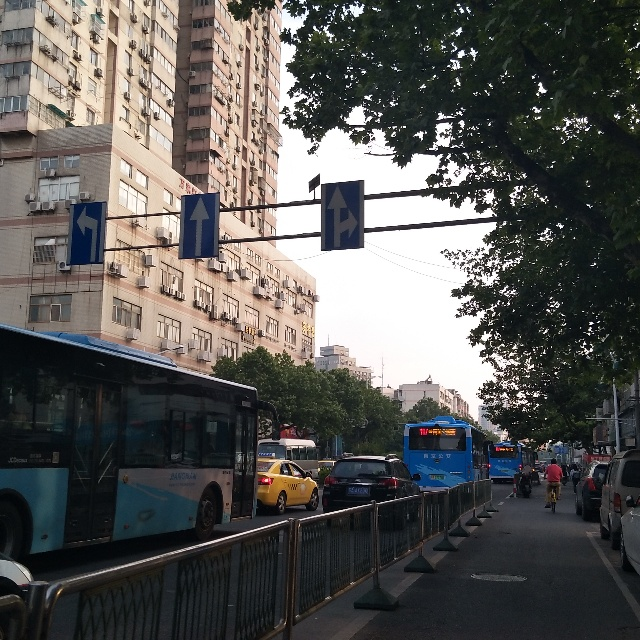left: (66, 201, 106, 264)
straight: (177, 191, 220, 260)
